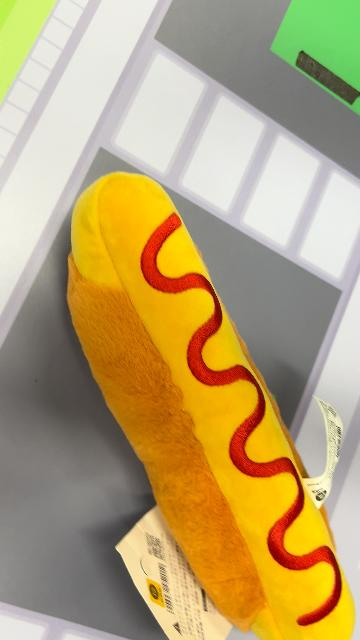hotdog: (66, 170, 356, 638)
